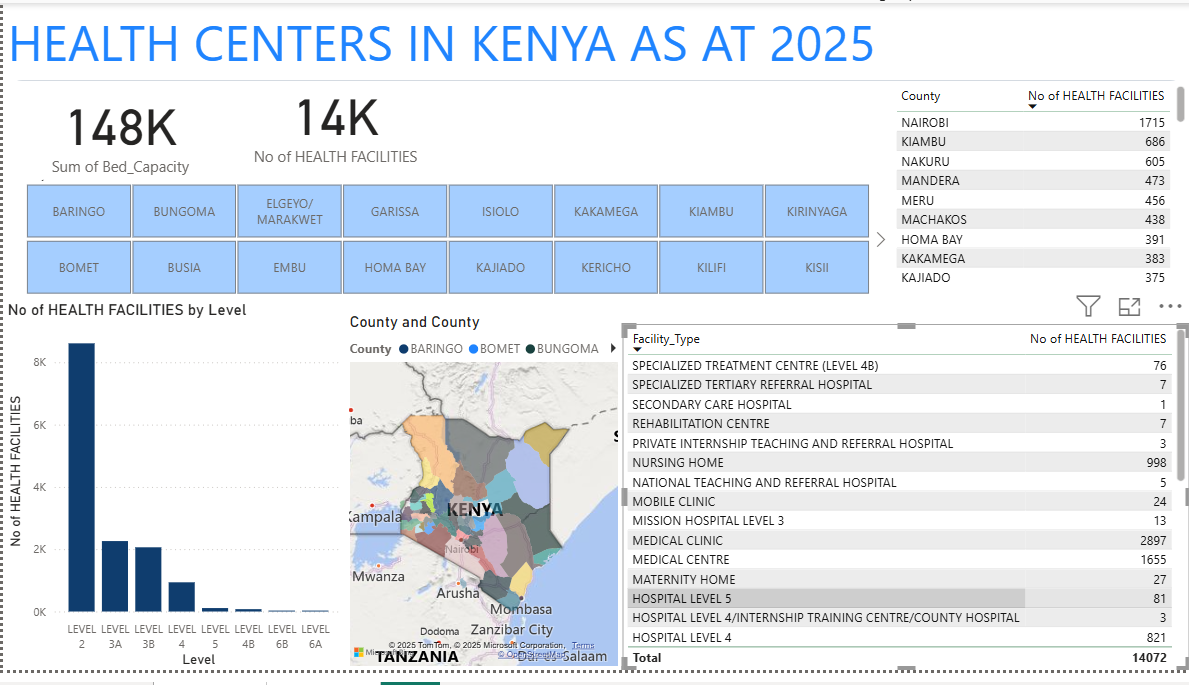

What the dashboard file says about the page in this screenshot:
{"tool":"powerbi","page":{"name":"Page 1","canvas":[1280,720],"ordinal":0},"visuals":[{"type":"card","fields":{"Values":["health_facilities_2025.No of HEALTH FACILITIES"]},"box":[238,63.1,241.3,127.9],"z":0},{"type":"slicer","fields":{"Values":["health_facilities_2025.County"]},"box":[0,174.9,958.6,145.7],"z":1000},{"type":"clusteredColumnChart","fields":{"Y":["health_facilities_2025.No of HEALTH FACILITIES"],"Category":["health_facilities_2025.Level"]},"box":[0,320.6,370.8,399.9],"z":2000},{"type":"tableEx","fields":{"Values":["health_facilities_2025.Facility_Type","health_facilities_2025.No of HEALTH FACILITIES"]},"box":[668.7,346.5,612.1,374],"z":4000},{"type":"textbox","box":[0,0,1280.8,63.1],"z":5000},{"type":"card","fields":{"Values":["Sum(health_facilities_2025.Bed_Capacity)"]},"box":[0,84.2,252.6,106.9],"z":6000},{"type":"filledMap","fields":{"Category":["health_facilities_2025.County"],"Series":["health_facilities_2025.County"]},"box":[369.2,333.6,299.6,387],"z":7000},{"type":"shape","box":[0,0,1280.8,84.2],"z":8000},{"type":"textbox","box":[0,0,1280.8,84.2],"z":9000},{"type":"tableEx","fields":{"Values":["health_facilities_2025.County","health_facilities_2025.No of HEALTH FACILITIES"]},"box":[958.6,84.2,322.2,221.8],"z":9001}]}

Visuals, with their boxes in screenshot pixels (x1, y1, x2, y2), scaled from the page's 1280x720 canvas onto the 1189x685 screenshot:
card - health_facilities_2025.No of HEALTH FACILITIES: locate(221, 60, 445, 182)
slicer - health_facilities_2025.County: locate(0, 166, 890, 305)
clusteredColumnChart - health_facilities_2025.No of HEALTH FACILITIES x health_facilities_2025.Level: locate(0, 305, 344, 684)
tableEx - health_facilities_2025.Facility_Type x health_facilities_2025.No of HEALTH FACILITIES: locate(621, 330, 1188, 684)
textbox: locate(0, 0, 1188, 60)
card - Sum(health_facilities_2025.Bed_Capacity): locate(0, 80, 235, 182)
filledMap - health_facilities_2025.County x health_facilities_2025.County: locate(343, 317, 621, 684)
shape: locate(0, 0, 1188, 80)
textbox: locate(0, 0, 1188, 80)
tableEx - health_facilities_2025.County x health_facilities_2025.No of HEALTH FACILITIES: locate(890, 80, 1188, 291)
